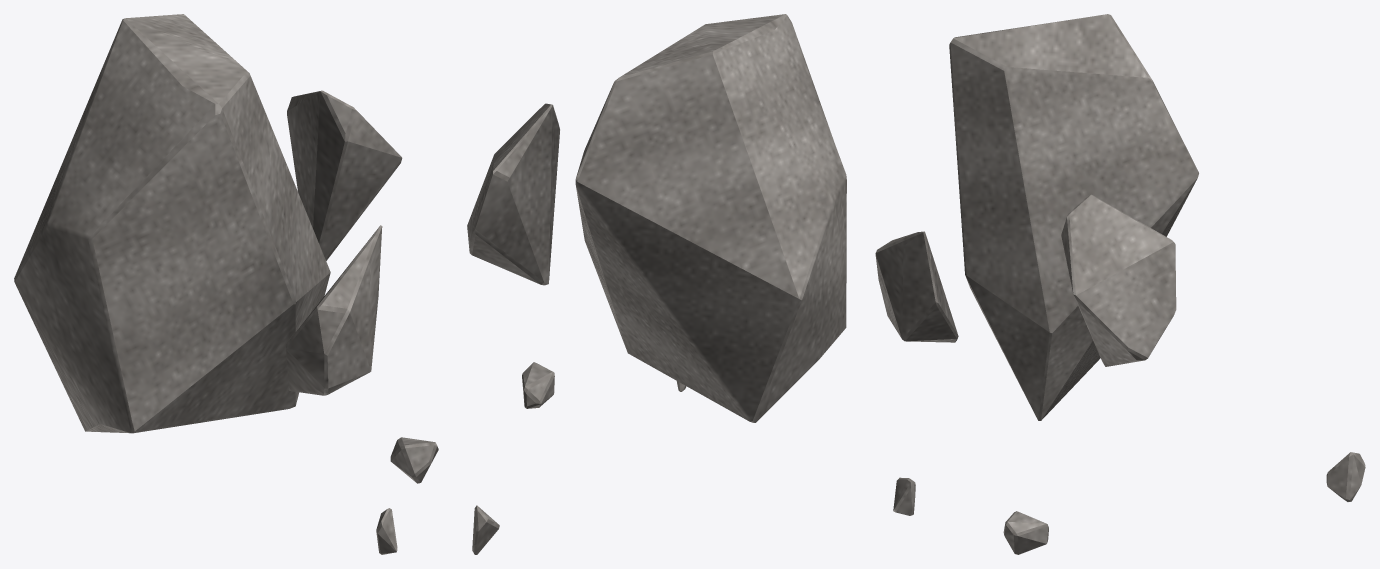
Rendered from boulder_15.glb.
3 views of the same model, side by side, from view 1: azimuth 30°, elevation 25°; view 2: azimuth 150°, elevation 25°; view 3: azimuth 270°, elevation 25° (orthographic). The views are drawn at different scales.
Visible parts, largest first — view 1: boulder_15_c0; view 2: boulder_15_c0; view 3: boulder_15_c0.
Part boxes in pixels (x1,y1,x2,y2): boulder_15_c0: (14, 14, 438, 554); boulder_15_c0: (467, 14, 846, 554); boulder_15_c0: (875, 14, 1365, 554).
Bounding box in the file's own units: 1.33 × 1.71 × 1.73.
Materials: 1 (1 with a texture image).
